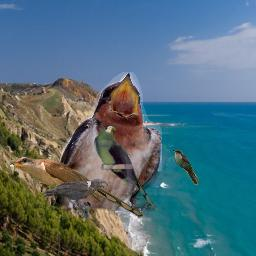Crow: (42, 178, 109, 209)
Cuckoo: (6, 156, 144, 217), (94, 125, 160, 211), (172, 149, 199, 185)
Swallow: (51, 72, 162, 220)
